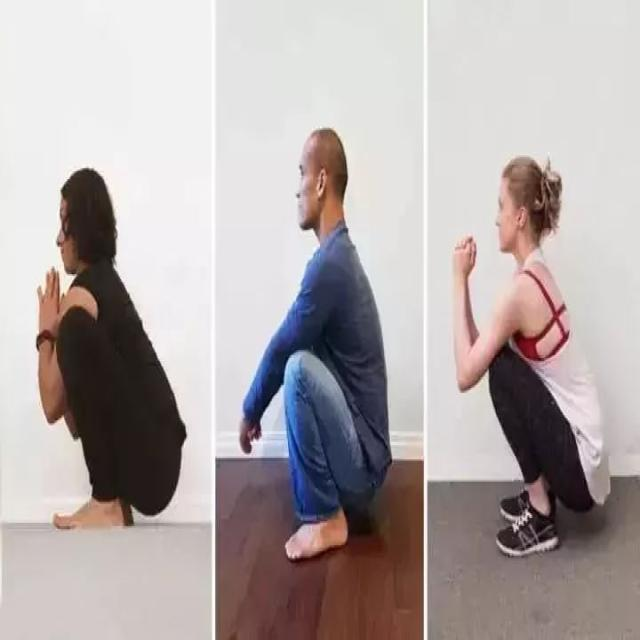sit: (446, 149, 610, 552), (30, 157, 183, 542), (274, 118, 397, 564)
